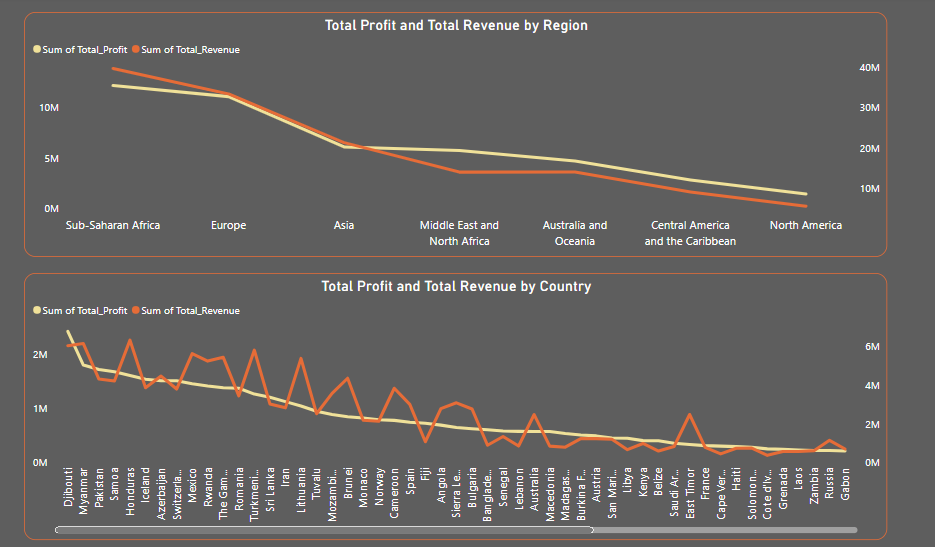

Layout of this report page (visuals, bound fields, positions):
{"tool":"powerbi","page":{"name":"Page 1","canvas":[1280,720],"ordinal":0},"visuals":[{"type":"lineChart","title":"Total Profit and Total Revenue by Region","fields":{"Category":["amazon_sales.Region"],"Y":["Sum(amazon_sales.Total_Profit)"],"Y2":["Sum(amazon_sales.Total_Revenue)"]},"box":[74.7,20.1,1128.1,320.5],"z":0},{"type":"lineChart","title":"Total Profit and Total Revenue by Country","fields":{"Category":["amazon_sales.Country"],"Y":["Sum(amazon_sales.Total_Profit)"],"Y2":["Sum(amazon_sales.Total_Revenue)"]},"box":[74.7,360.7,1128.1,349.2],"z":1000}]}

Visuals, with their boxes on the page's 1280x720 design canvas (x1, y1, x2, y2). These are canvas units, not pixel positions in the 935x547 screenshot, which may show the page scaled, cropped or inside an application window:
"Total Profit and Total Revenue by Region" lineChart: (left=75, top=20, right=1203, bottom=341)
"Total Profit and Total Revenue by Country" lineChart: (left=75, top=361, right=1203, bottom=710)
